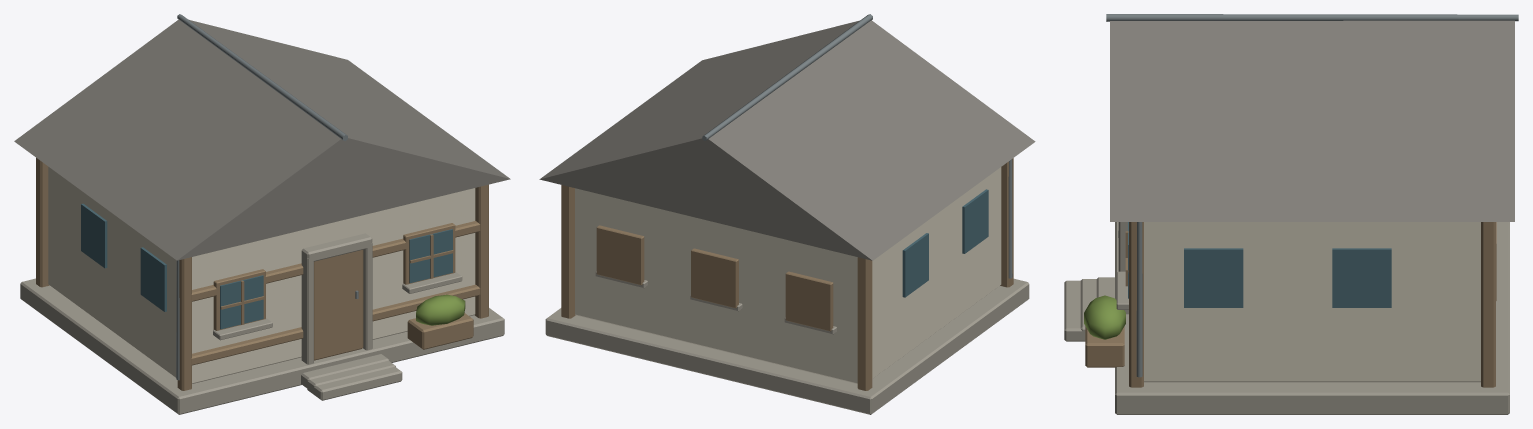
Rendered from bld_maison_a01.glb.
The picture shows the model from 3 angles, left to right: view 1: azimuth 30°, elevation 25°; view 2: azimuth 150°, elevation 25°; view 3: azimuth 270°, elevation 25°; orthographic projection. The views are drawn at different scales.
Visible parts, largest first — view 1: bld_maison_a01; view 2: bld_maison_a01; view 3: bld_maison_a01.
Part boxes in pixels (x1,y1,x2,y2): bld_maison_a01: (14, 14, 510, 414); bld_maison_a01: (539, 14, 1035, 414); bld_maison_a01: (1064, 14, 1518, 414).
Bounding box in the file's own units: 3.88 × 2.72 × 3.68.
